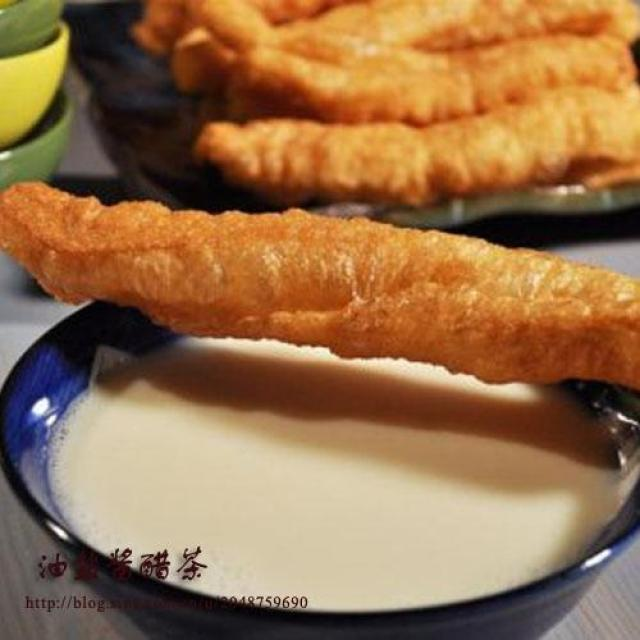炸货点心: (8, 74, 631, 483)
